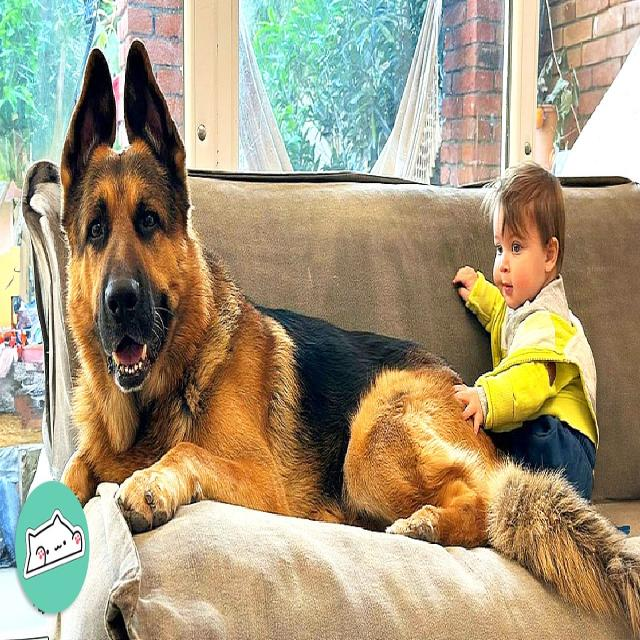GERMAN_SHEPHERD: (40, 24, 640, 640)
